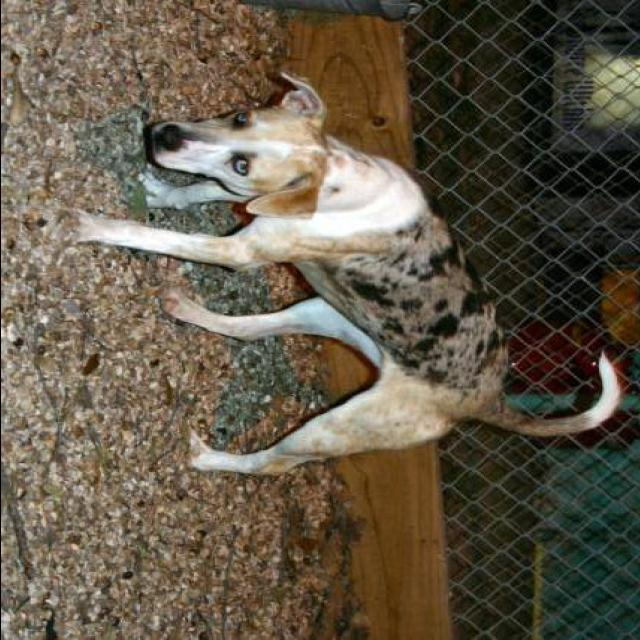dog: (66, 54, 621, 526)
